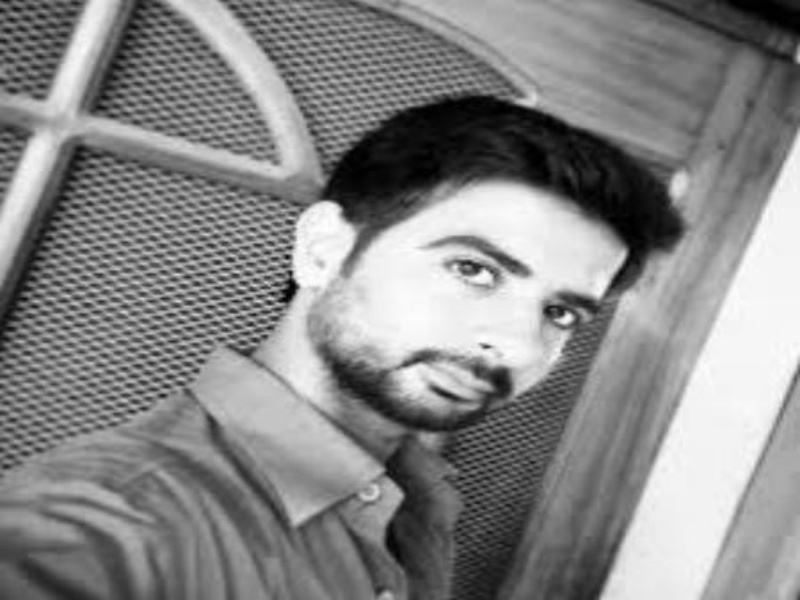TsisyArotava: (286, 100, 647, 435)
